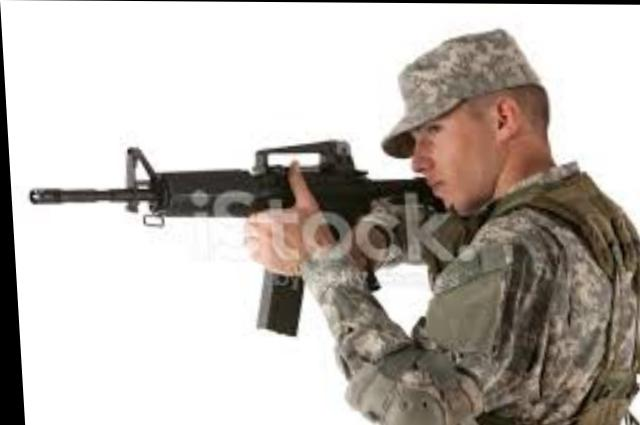other: (331, 40, 631, 424)
